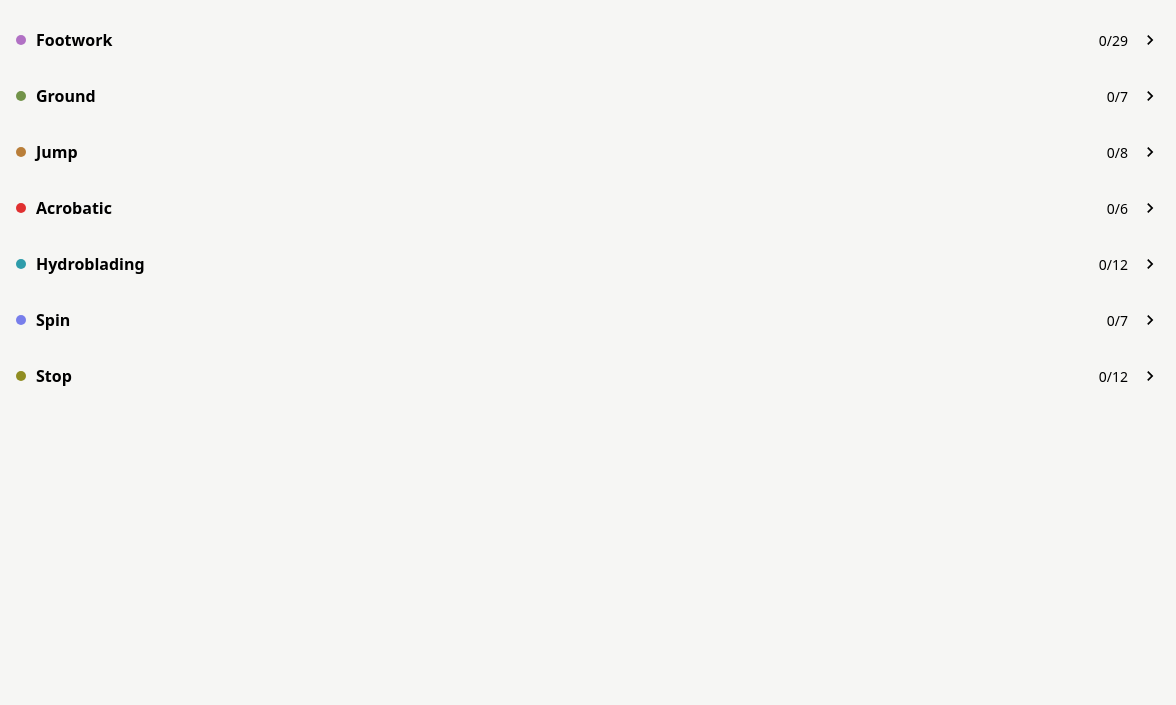
it: PathList › opens a category on click
The image size is (1176, 705).
Step 1. Click the button "Stop 0/12" → [54, 376], box [12,348,1164,404]
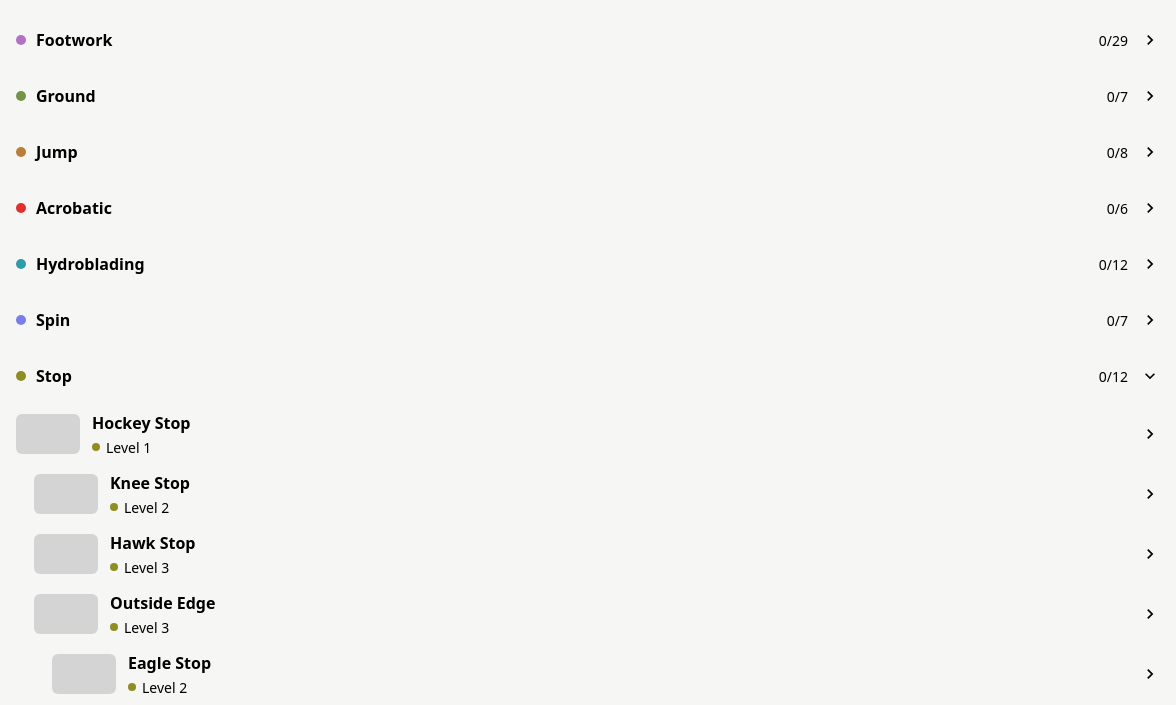
Expected: the button "Stop 0/12" is expanded, [12,348,1164,404]
